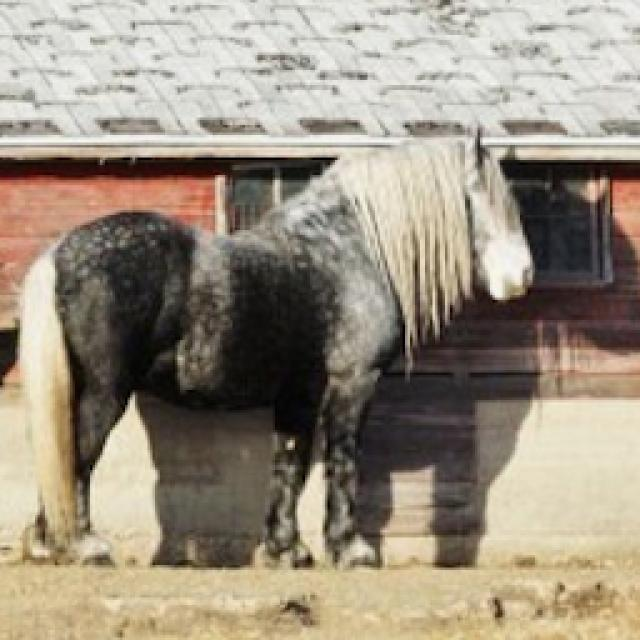Horse: (0, 120, 542, 575)
